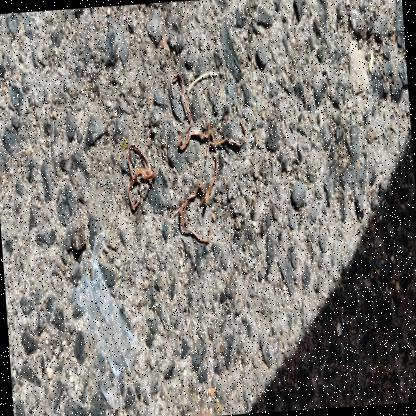Plastic film: (77, 230, 138, 409)
Scrap metal: (175, 180, 211, 242), (127, 143, 156, 208), (171, 73, 192, 133), (204, 141, 218, 206), (211, 120, 246, 146), (179, 122, 210, 150)
